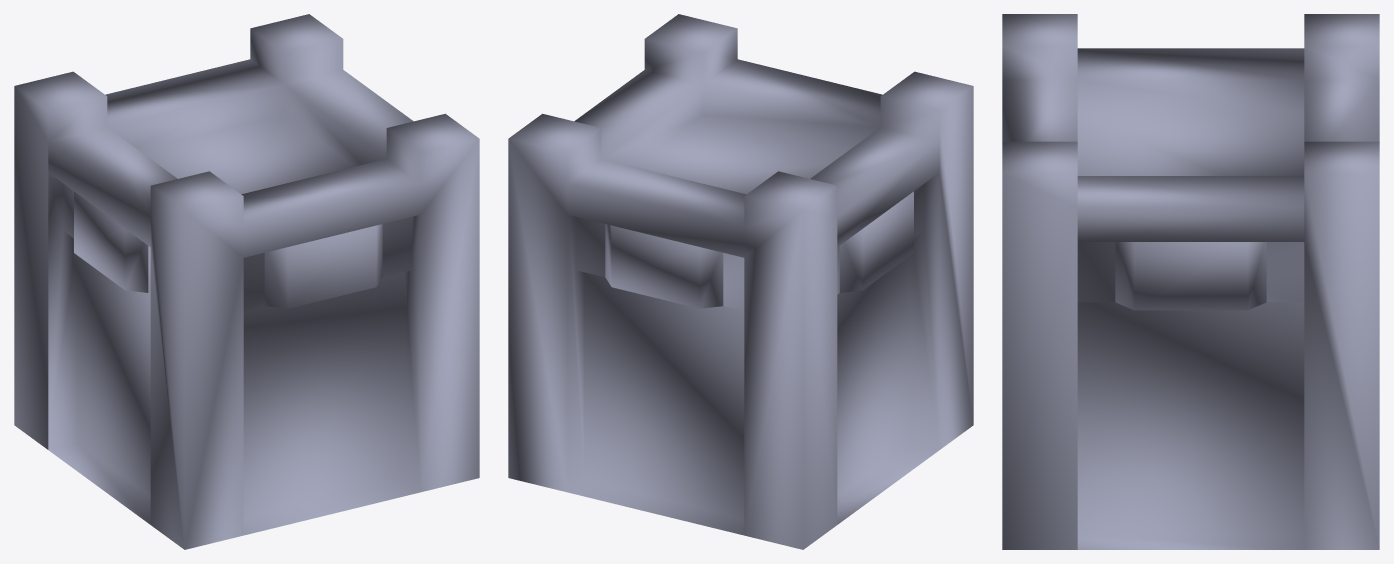
Rendered from kenney_mini-dungeon__wall.fbx.
3 renders of one model, left to right at view 1: azimuth 30°, elevation 25°; view 2: azimuth 150°, elevation 25°; view 3: azimuth 270°, elevation 25°, orthographic. The views are drawn at different scales.
Visible parts, largest first — view 1: kenney_mini-dungeon__wall__cave_stone; view 2: kenney_mini-dungeon__wall__cave_stone; view 3: kenney_mini-dungeon__wall__cave_stone.
Boxes of the visible parts, box(x1,y1,x2,y2) form: kenney_mini-dungeon__wall__cave_stone: box(14, 14, 479, 549); kenney_mini-dungeon__wall__cave_stone: box(508, 14, 973, 549); kenney_mini-dungeon__wall__cave_stone: box(1002, 14, 1379, 549).
Size of the model in its own units: 3.57 by 3.93 by 3.57.
